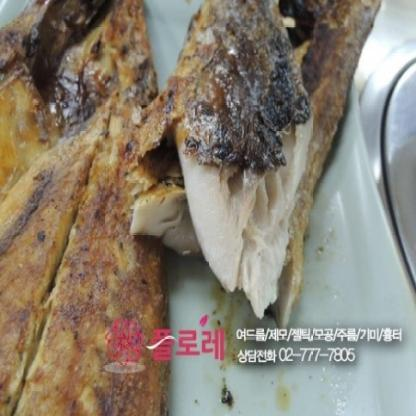Peixe: (0, 0, 382, 416)
